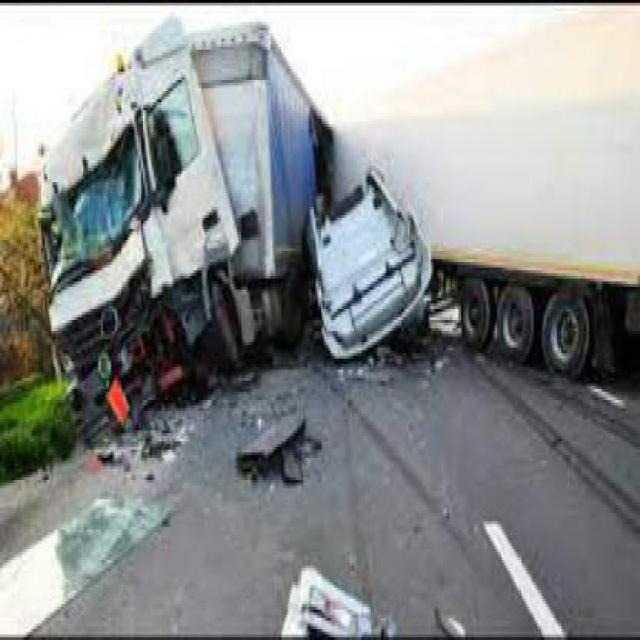accident: (29, 11, 476, 441)
